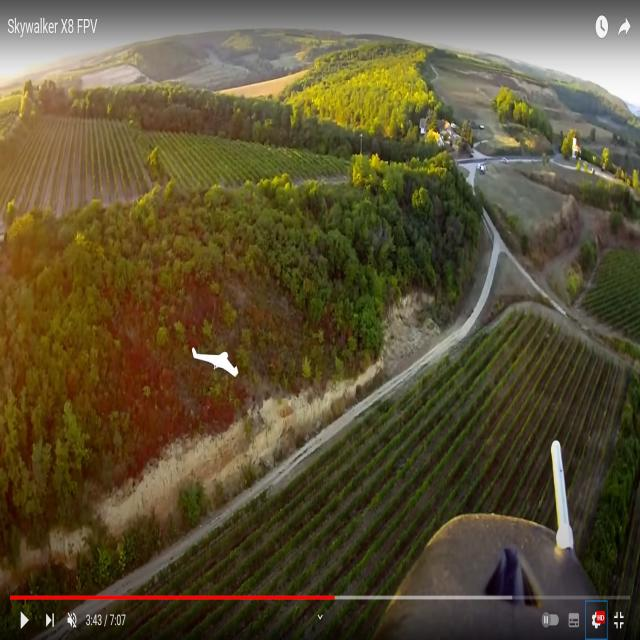iha: (191, 344, 239, 380)
